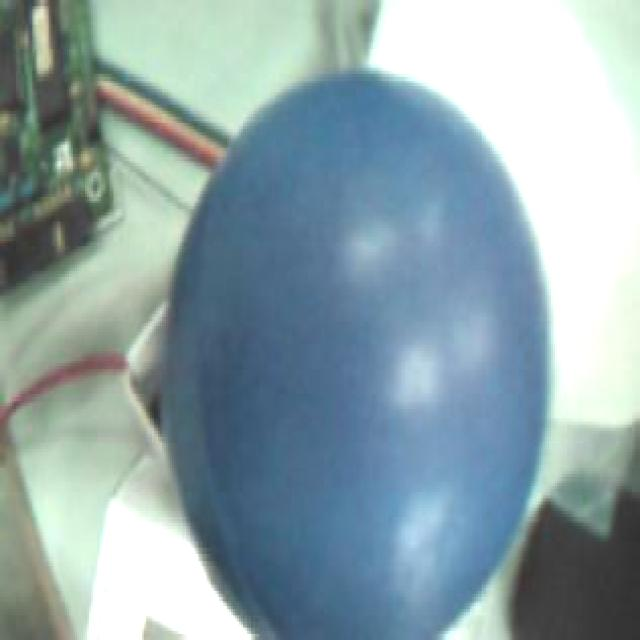BallPurple: (167, 67, 550, 640)
